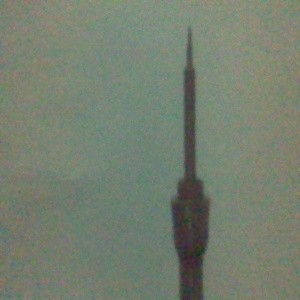solder: (170, 23, 211, 300)
